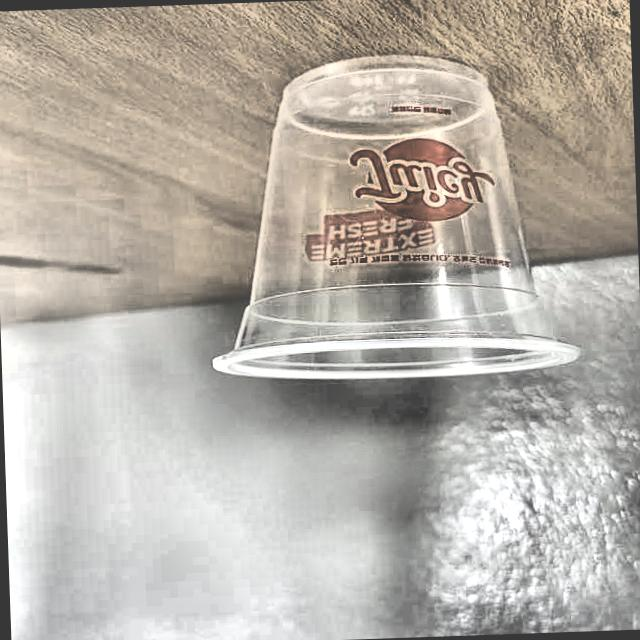plastic cup: (201, 49, 580, 387)
